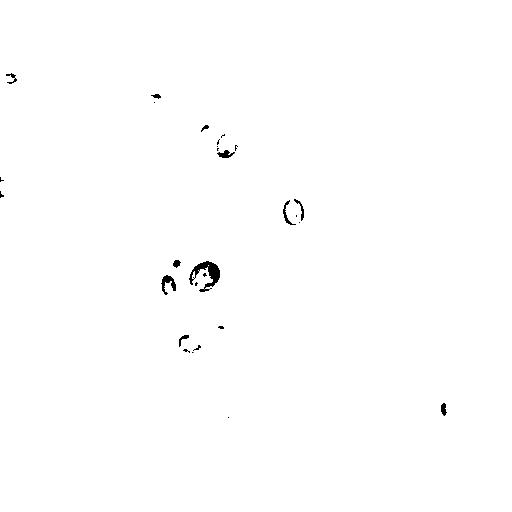micro-algae: (214, 394, 251, 438), (475, 8, 511, 53), (161, 243, 196, 287), (188, 257, 223, 293), (273, 169, 299, 201), (215, 129, 241, 160), (175, 331, 204, 357), (280, 195, 305, 225), (434, 398, 459, 423), (158, 274, 177, 299), (1, 177, 14, 202), (1, 71, 19, 85), (196, 122, 211, 137)
